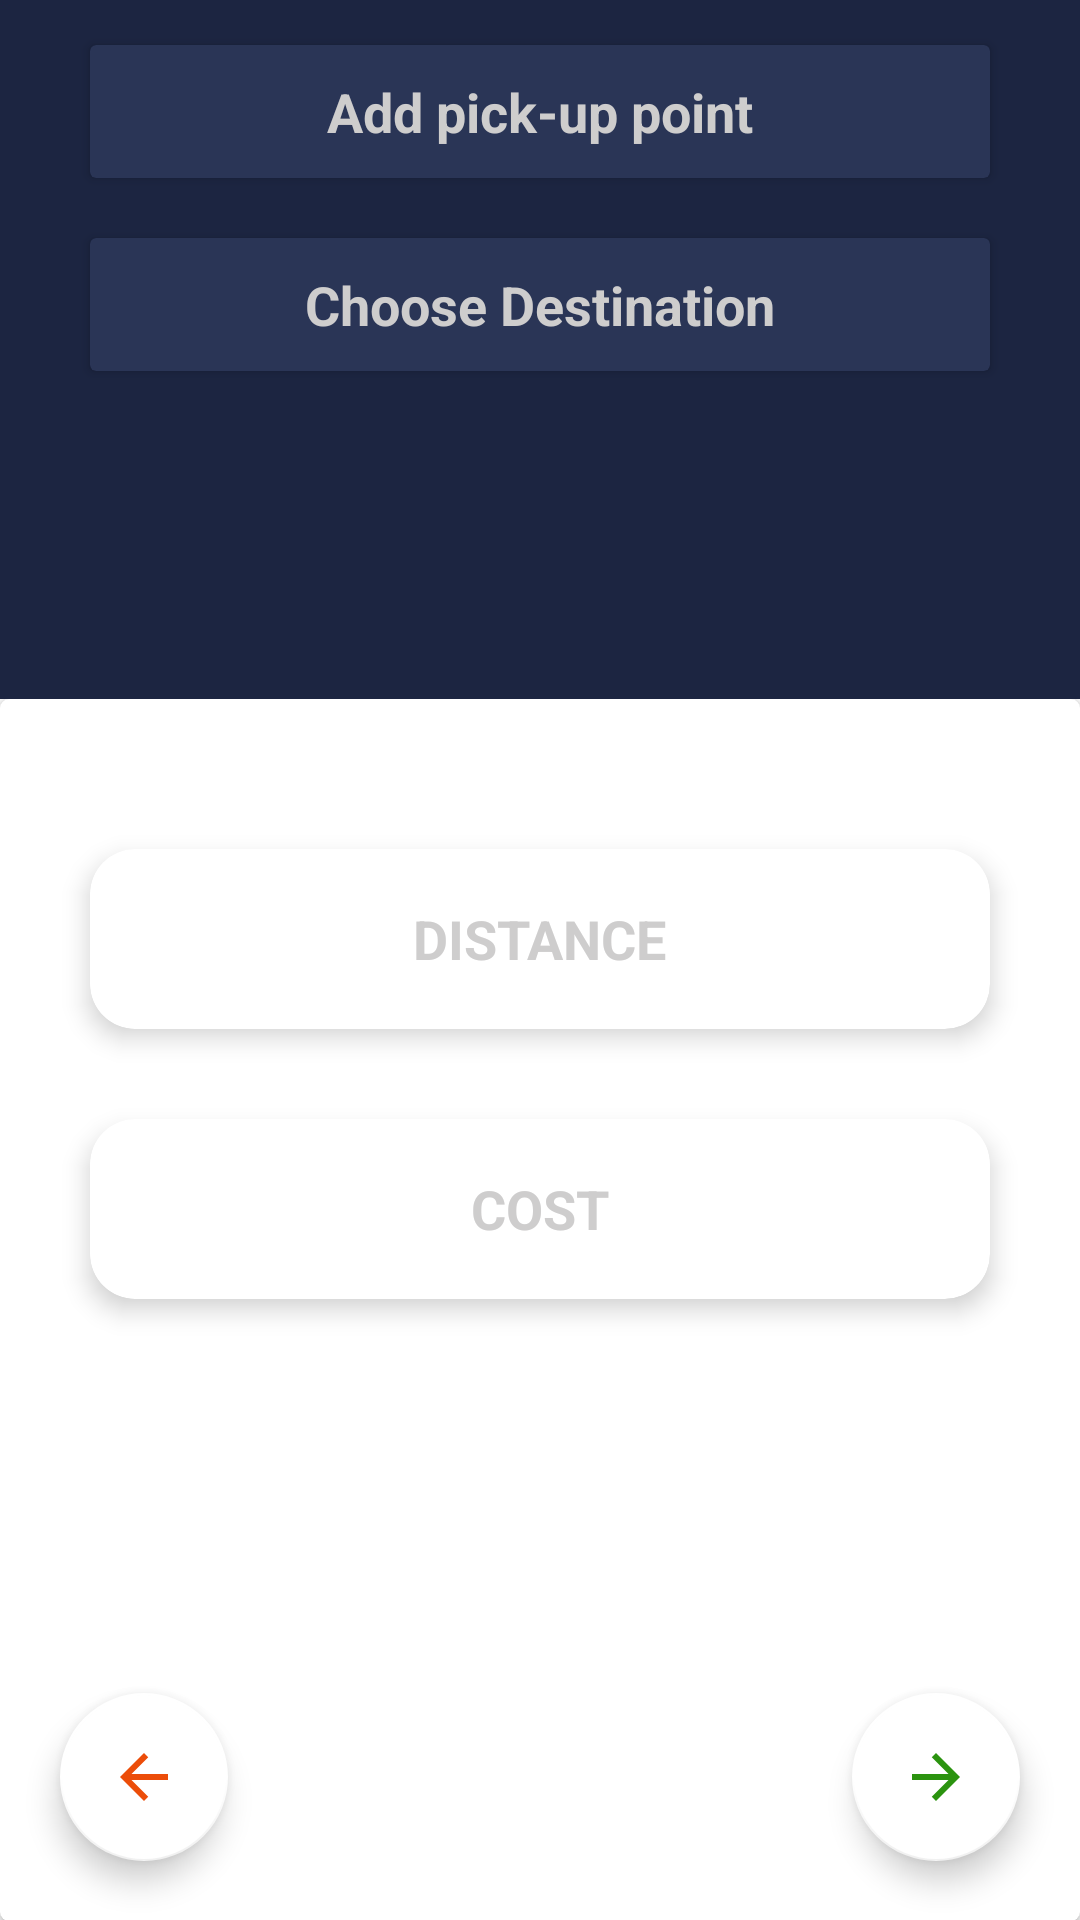

Point at icon controls on the screen. Image size 1080px x 1920px, points as [x,y].
arrow back: [141,1807]
arrow forward: [938,1807]
